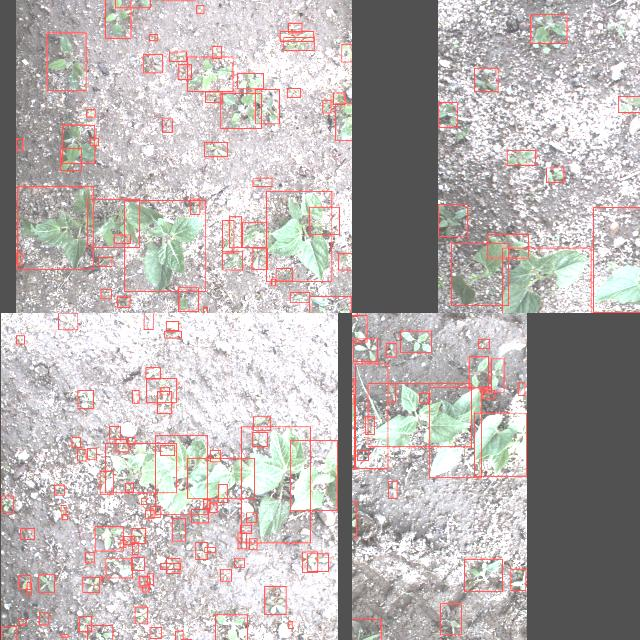crop: (242, 427, 310, 543), (124, 200, 206, 292), (368, 384, 472, 446), (17, 186, 93, 270), (266, 191, 332, 281), (501, 248, 590, 313), (593, 207, 640, 312), (430, 388, 482, 478), (155, 436, 207, 514), (106, 443, 176, 493), (452, 243, 508, 305), (290, 441, 338, 511), (474, 414, 526, 476), (188, 458, 255, 498), (87, 199, 139, 247)
weed: (356, 364, 388, 468), (46, 33, 85, 91), (187, 56, 233, 92), (220, 94, 262, 128), (62, 125, 94, 163), (465, 559, 503, 591), (531, 14, 567, 44), (105, 0, 131, 38), (488, 234, 528, 258), (437, 205, 467, 237), (254, 90, 280, 124), (310, 207, 340, 235), (215, 614, 247, 640), (95, 526, 123, 552), (146, 378, 176, 402), (310, 296, 352, 313), (469, 357, 489, 389), (441, 604, 462, 634), (335, 103, 352, 140), (243, 222, 267, 248), (352, 338, 378, 362), (401, 332, 432, 352), (264, 586, 286, 614), (352, 619, 380, 640), (474, 68, 498, 92), (106, 558, 132, 578), (438, 102, 457, 128), (60, 148, 82, 170), (178, 288, 198, 312), (506, 150, 536, 166), (228, 216, 242, 248), (238, 73, 264, 89), (492, 358, 504, 392), (222, 220, 234, 253), (284, 38, 314, 51), (352, 315, 366, 342), (87, 625, 112, 640), (222, 252, 242, 270), (143, 55, 163, 73), (308, 553, 328, 571), (252, 248, 268, 270), (618, 96, 640, 112), (156, 391, 172, 413), (280, 31, 314, 41), (205, 142, 228, 156), (58, 313, 78, 329), (302, 552, 318, 572), (77, 390, 93, 408), (172, 518, 184, 542), (38, 575, 54, 593), (512, 570, 526, 590), (100, 472, 112, 494), (546, 168, 564, 182), (82, 578, 100, 592), (134, 606, 148, 624), (253, 416, 270, 430), (276, 268, 292, 282), (338, 254, 352, 270), (178, 64, 192, 80), (252, 432, 268, 446), (192, 509, 208, 523), (131, 528, 145, 544), (166, 558, 180, 574), (78, 616, 92, 632), (196, 542, 208, 560), (0, 626, 15, 640), (290, 292, 310, 302), (341, 44, 352, 62), (1, 496, 13, 512), (218, 484, 228, 502), (170, 52, 187, 62), (205, 92, 222, 102), (20, 528, 34, 540), (130, 558, 144, 570), (18, 575, 30, 589), (252, 178, 272, 186), (388, 482, 398, 498), (352, 500, 356, 537), (333, 93, 345, 105), (114, 234, 130, 243), (116, 440, 128, 452), (164, 330, 182, 338), (143, 313, 152, 329), (388, 384, 396, 402), (366, 417, 374, 435), (116, 297, 130, 307), (190, 200, 200, 214), (288, 23, 302, 33), (162, 118, 172, 132), (146, 368, 160, 378), (160, 445, 174, 455), (386, 343, 396, 357), (110, 426, 120, 439), (238, 533, 246, 549), (287, 89, 301, 98), (212, 46, 222, 58), (210, 450, 220, 462), (160, 563, 180, 569), (138, 577, 150, 587), (220, 570, 232, 580), (150, 628, 162, 638), (38, 612, 48, 624), (98, 258, 112, 266), (518, 382, 526, 396), (150, 507, 160, 518), (76, 449, 85, 461), (166, 322, 178, 331), (54, 485, 64, 495), (234, 558, 244, 568), (247, 513, 257, 523), (419, 393, 429, 403), (358, 450, 368, 460), (478, 339, 489, 348), (100, 290, 112, 298), (323, 100, 331, 112), (249, 538, 257, 550), (240, 525, 252, 533), (483, 390, 495, 398), (85, 552, 94, 562), (15, 139, 22, 151), (26, 582, 32, 596), (209, 503, 217, 513), (88, 448, 96, 458), (72, 437, 80, 447), (160, 387, 170, 395), (124, 536, 134, 544), (146, 574, 154, 584), (125, 482, 133, 492), (132, 391, 138, 404), (16, 252, 22, 264), (132, 542, 138, 554), (146, 509, 154, 518), (175, 631, 183, 640), (86, 109, 94, 117), (196, 6, 204, 14), (90, 138, 98, 146), (16, 336, 24, 344), (203, 499, 210, 508), (148, 34, 158, 40), (60, 505, 66, 515), (127, 438, 135, 444), (120, 540, 126, 548), (142, 584, 148, 592), (484, 387, 492, 393), (205, 548, 215, 552), (140, 499, 146, 505), (271, 278, 275, 286), (18, 620, 26, 624), (61, 634, 68, 638), (62, 514, 66, 520), (289, 622, 293, 628), (203, 308, 207, 313), (101, 576, 102, 582)
